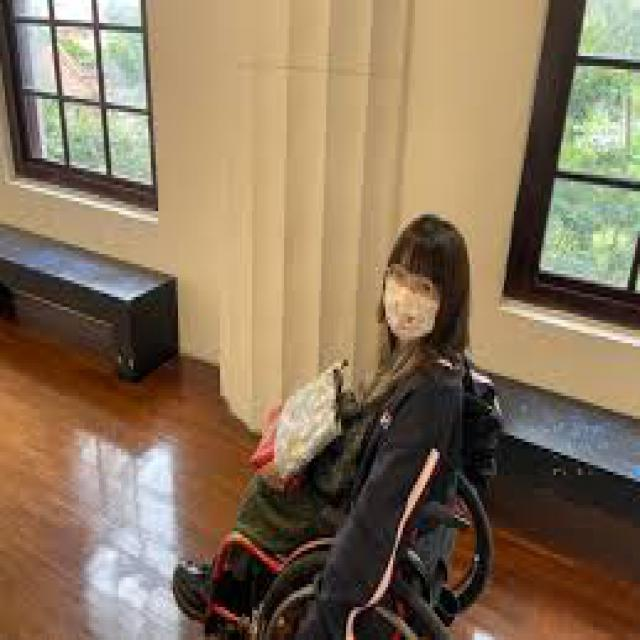wheelchairs: (197, 359, 534, 636)
